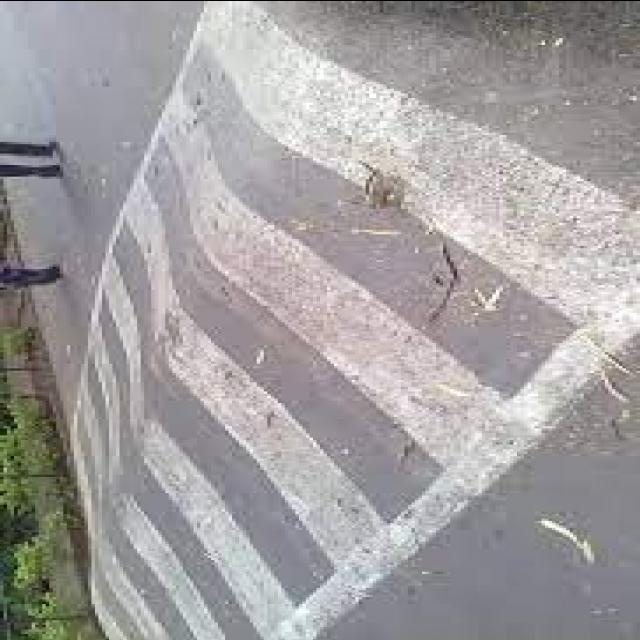speedbreaker: (90, 0, 438, 636)
